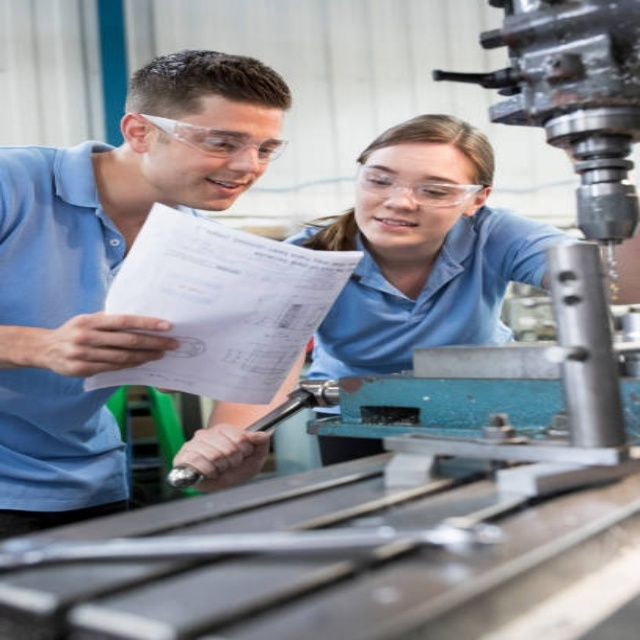Gafas: (142, 114, 288, 163), (356, 165, 486, 207)
Sin_guantes: (22, 311, 185, 381), (168, 421, 274, 492)
Sin_mascara: (361, 211, 425, 246), (193, 169, 248, 208)
